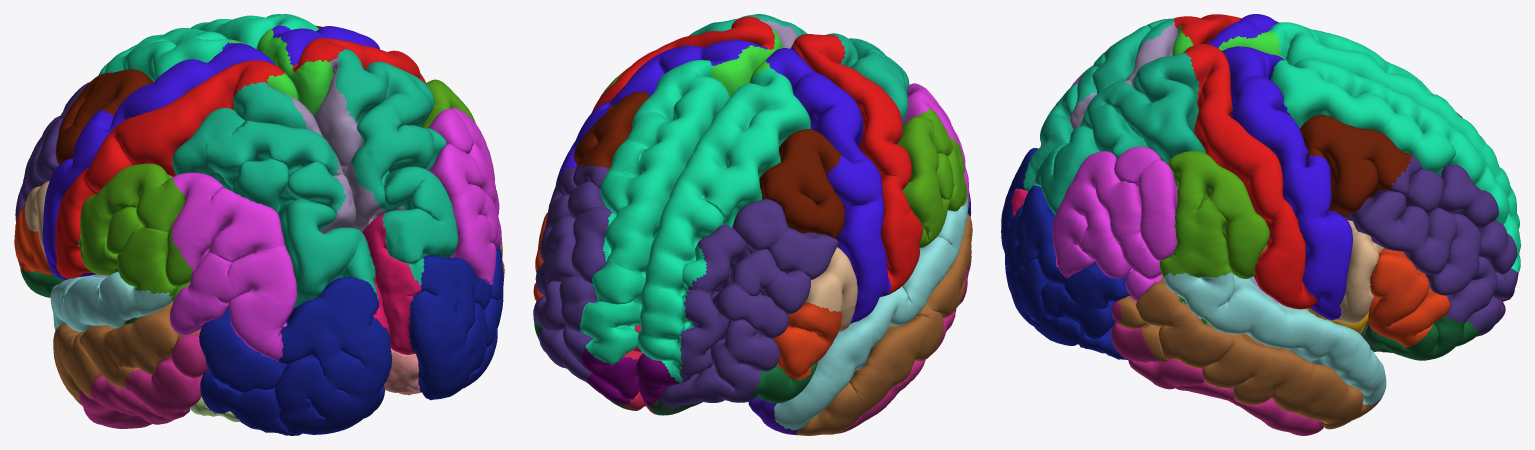
Rendered from cortex-desikan.glb.
3 renders of one model, left to right at view 1: azimuth 30°, elevation 25°; view 2: azimuth 150°, elevation 25°; view 3: azimuth 270°, elevation 25°, orthographic. The views are drawn at different scales.
Parts seen in each view (by area): view 1: desikan:left:11, desikan:left:29, desikan:left:8, desikan:right:29, desikan:left:31, desikan:right:11, desikan:left:22, desikan:right:8, desikan:left:24, desikan:left:15, desikan:left:9, desikan:left:30 (+16 smaller); view 2: desikan:left:27, desikan:left:28, desikan:right:28, desikan:right:27, desikan:left:24, desikan:left:22, desikan:left:30, desikan:left:15, desikan:left:3, desikan:left:31, desikan:right:24, desikan:left:20 (+14 smaller); view 3: desikan:right:27, desikan:right:8, desikan:right:15, desikan:right:24, desikan:right:28, desikan:right:29, desikan:right:22, desikan:right:11, desikan:right:30, desikan:right:31, desikan:left:28, desikan:right:3 (+10 smaller).
Part boxes in pixels (<box>): desikan:left:11: <box>199,277,391,435</box>; desikan:left:29: <box>172,82,378,307</box>; desikan:left:8: <box>169,172,297,361</box>; desikan:right:29: <box>335,48,458,285</box>; desikan:left:31: <box>78,163,192,301</box>; desikan:right:11: <box>409,245,503,400</box>; desikan:left:22: <box>55,60,284,278</box>; desikan:right:8: <box>428,107,501,285</box>; desikan:left:24: <box>42,42,276,280</box>; desikan:left:15: <box>53,302,201,405</box>; desikan:left:9: <box>79,332,208,428</box>; desikan:left:30: <box>50,271,173,331</box>; desikan:left:27: <box>661,199,838,408</box>; desikan:left:28: <box>637,67,810,382</box>; desikan:right:28: <box>579,60,730,364</box>; desikan:right:27: <box>533,164,612,383</box>; desikan:left:24: <box>766,45,890,324</box>; desikan:left:22: <box>792,34,922,294</box>; desikan:left:30: <box>774,193,967,430</box>; desikan:left:15: <box>796,214,972,435</box>; desikan:left:3: <box>759,129,844,238</box>; desikan:left:31: <box>897,109,967,248</box>; desikan:right:24: <box>555,40,767,185</box>; desikan:left:20: <box>773,302,841,380</box>; desikan:right:27: <box>1345,155,1517,336</box>; desikan:right:8: <box>1052,146,1177,301</box>; desikan:right:15: <box>1117,277,1376,429</box>; desikan:right:24: <box>1222,46,1352,320</box>; desikan:right:28: <box>1270,58,1520,273</box>; desikan:right:29: <box>1028,53,1206,214</box>; desikan:right:22: <box>1184,44,1318,309</box>; desikan:right:11: <box>1005,185,1130,359</box>; desikan:right:30: <box>1164,271,1386,405</box>; desikan:right:31: <box>1159,151,1269,278</box>; desikan:left:28: <box>1268,22,1519,228</box>; desikan:right:3: <box>1300,115,1411,220</box>.
Size of the model in its own units: 0.1294 by 0.1236 by 0.1629.
